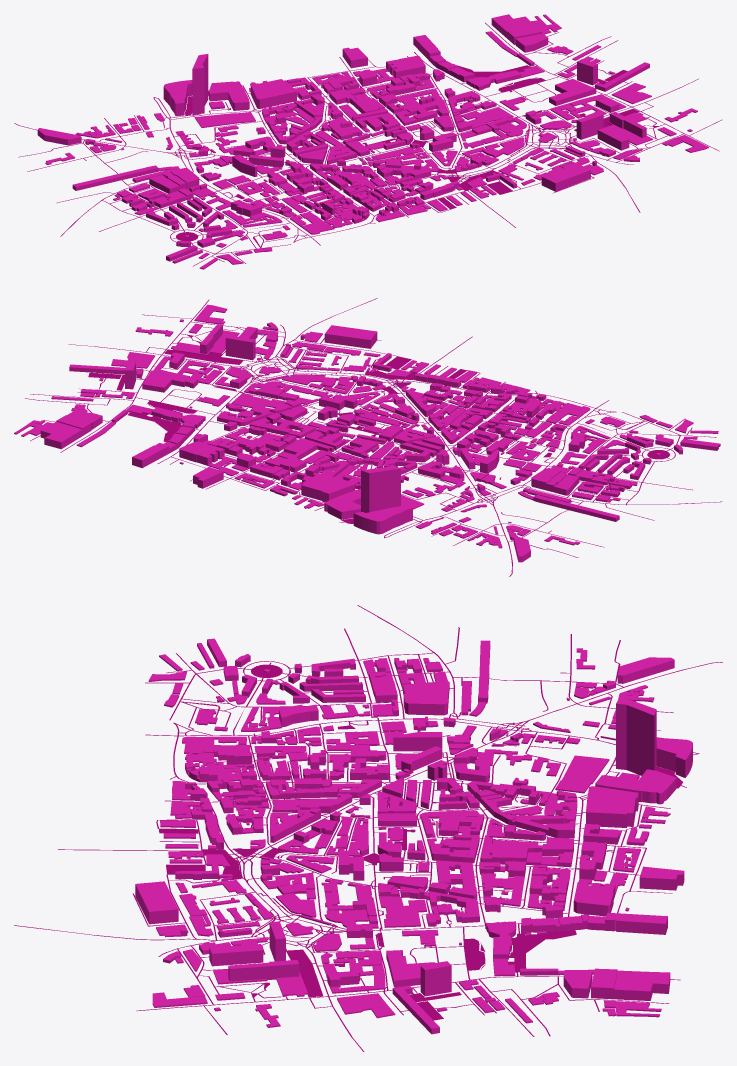
Rendered from old_street.obj.
The picture shows the model from 3 angles, top to bottom: view 1: azimuth 30°, elevation 25°; view 2: azimuth 150°, elevation 25°; view 3: azimuth 270°, elevation 25°; orthographic projection. The views are drawn at different scales.
Visible parts, largest first — view 1: old_street; view 2: old_street; view 3: old_street.
Boxes of the visible parts, x1,y1,x2,y2 form: old_street: [14, 14, 722, 269]; old_street: [14, 298, 722, 576]; old_street: [14, 605, 722, 1051].
Bounding box in the file's own units: 2424 × 165 × 1625.
